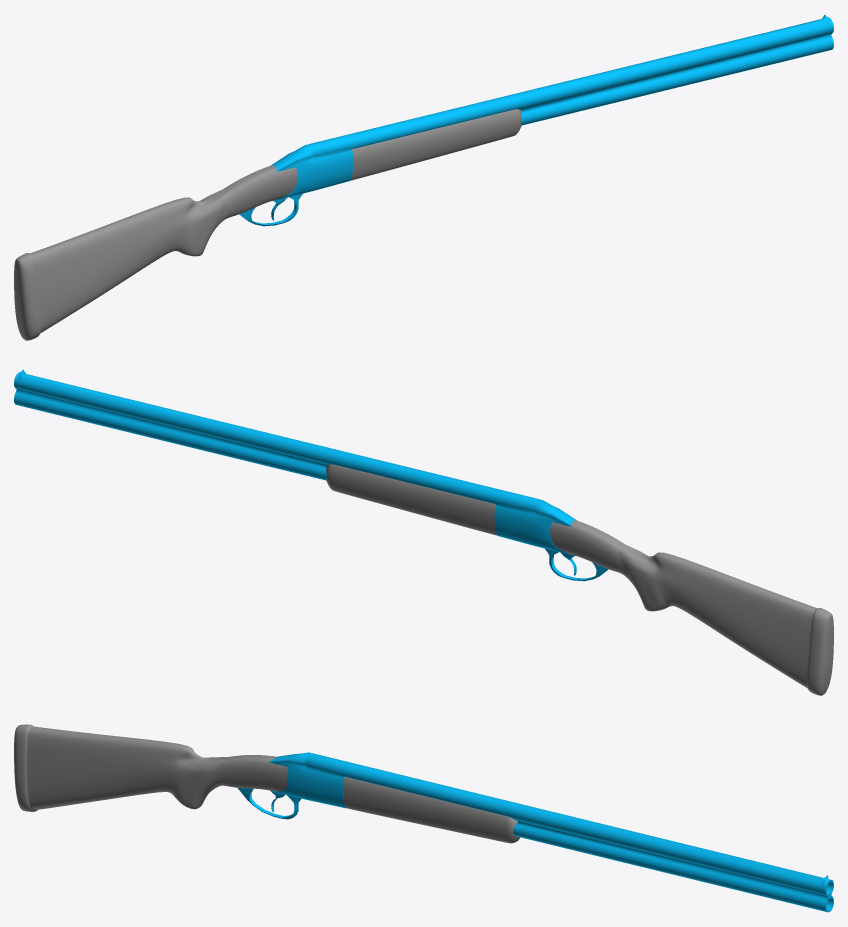
The model's file is Olympia.fbx.
3 views of the same model, one above another, from view 1: azimuth 30°, elevation 25°; view 2: azimuth 150°, elevation 25°; view 3: azimuth 330°, elevation 25° (orthographic).
Parts seen in each view (by area): view 1: Madero, Cañón; view 2: Madero, Cañón; view 3: Madero, Cañón.
Boxes of the visible parts, box(x1,y1,x2,y2) form: Madero: box(14, 109, 521, 340); Cañón: box(239, 14, 833, 226); Madero: box(326, 464, 833, 695); Cañón: box(14, 369, 608, 581); Madero: box(14, 724, 520, 843); Cañón: box(237, 752, 833, 912).
Bounding box in the file's own units: 877 × 134 × 26.16.
